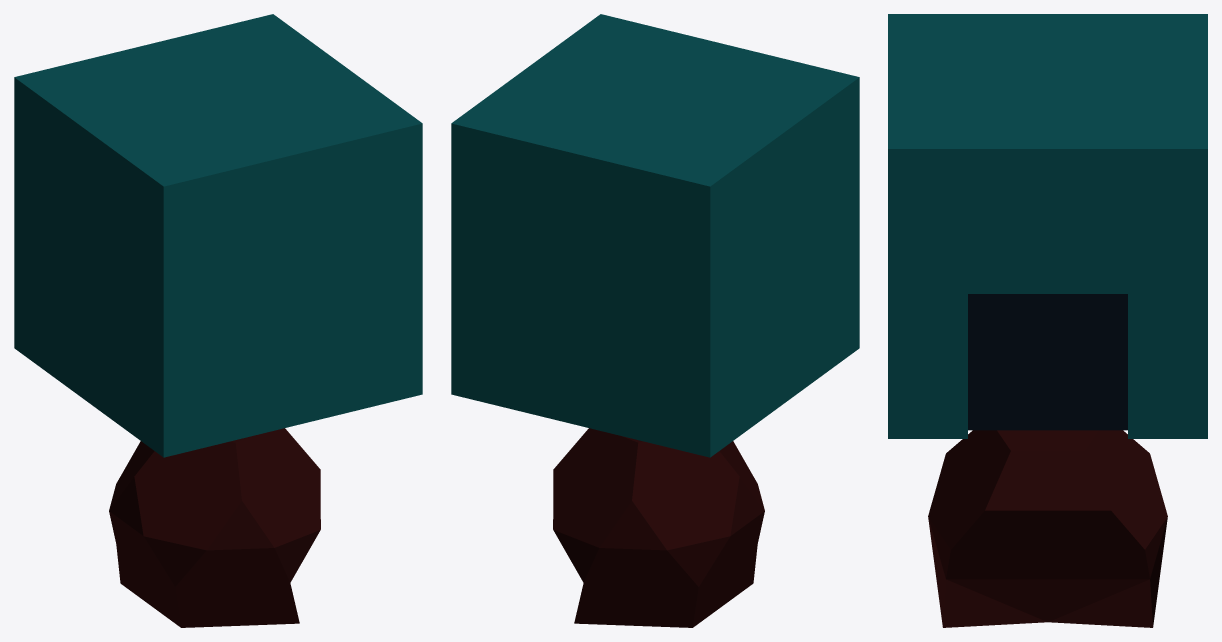
Rendered from knight.glb.
The picture shows the model from 3 angles, left to right: view 1: azimuth 30°, elevation 25°; view 2: azimuth 150°, elevation 25°; view 3: azimuth 270°, elevation 25°; orthographic projection. The views are drawn at different scales.
Parts seen in each view (by area): view 1: knight; view 2: knight; view 3: knight.
Part boxes in pixels (x1,y1,x2,y2): knight: (14, 14, 422, 627); knight: (451, 14, 859, 627); knight: (888, 14, 1207, 627).
Size of the model in its own units: 2 by 3.66 by 2.
Materials: 1 (1 with a texture image).
